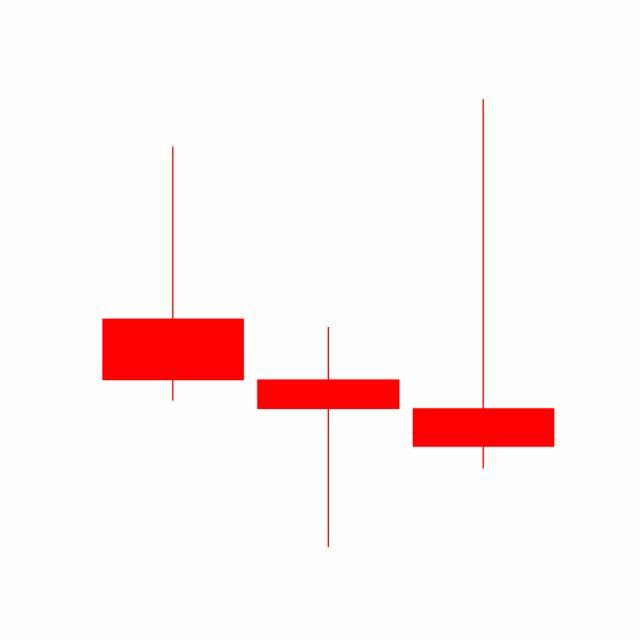Spinning Top: (250, 324, 407, 550)
